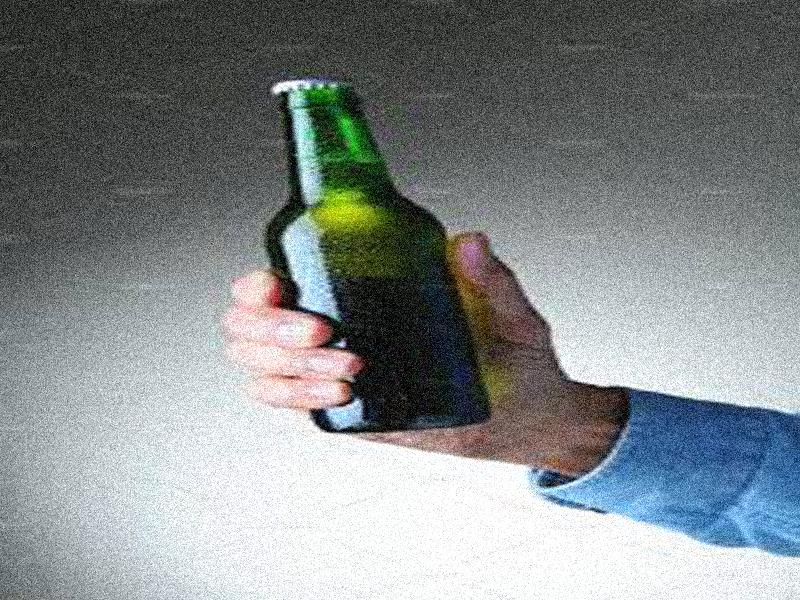Beer: (267, 74, 494, 435)
